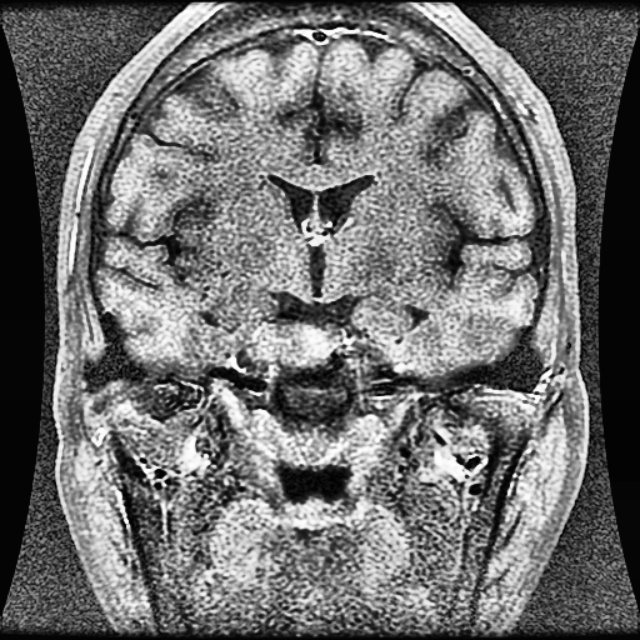Pituitary: (250, 320, 340, 369)
